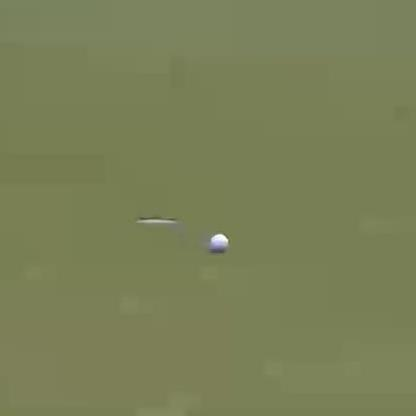golfball: (208, 232, 228, 252)
